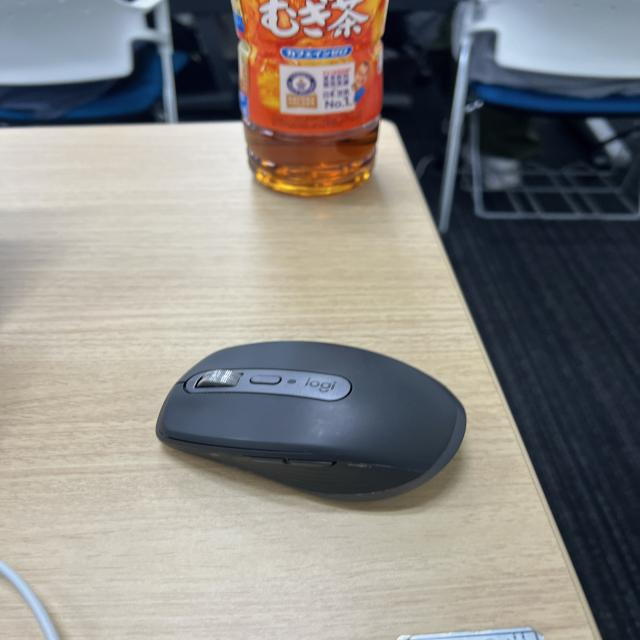mouse: (137, 336, 480, 503)
